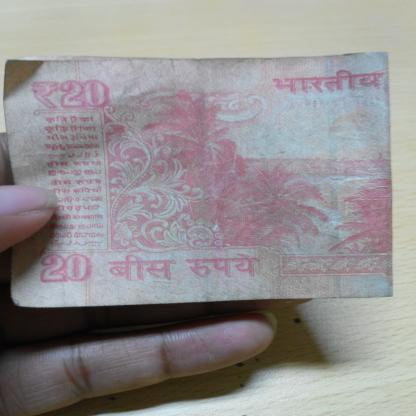Old20Back: (0, 58, 390, 300)
